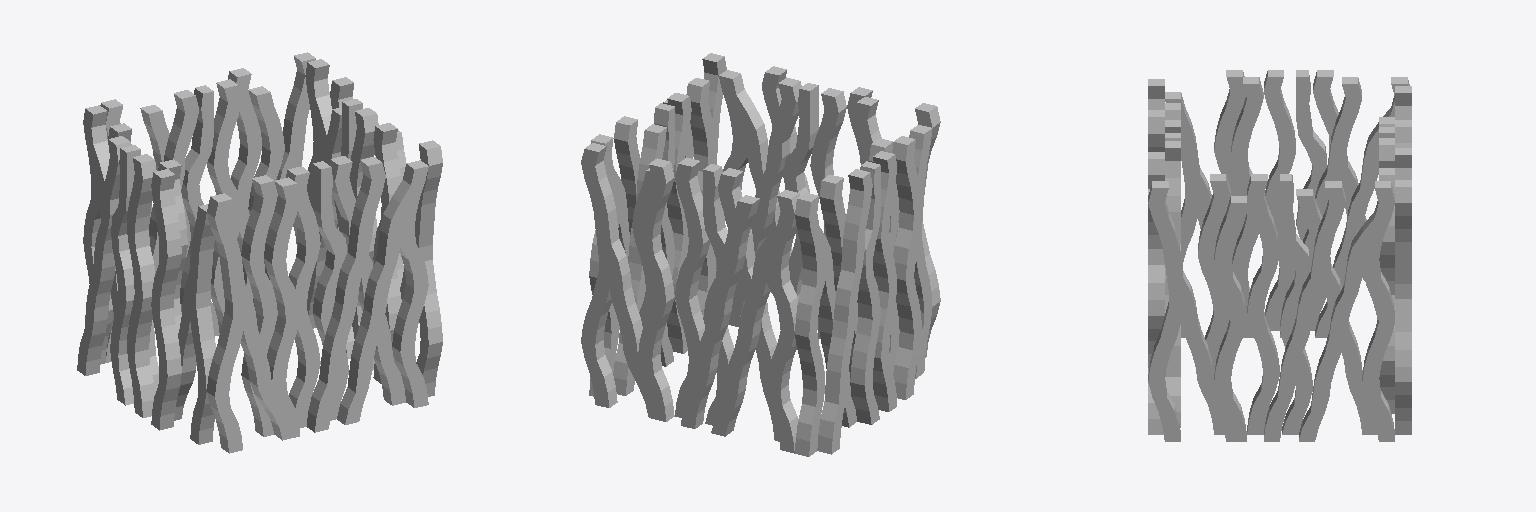
The model's file is tris.obj.
3 views of the same model, side by side, from view 1: azimuth 30°, elevation 25°; view 2: azimuth 150°, elevation 25°; view 3: azimuth 270°, elevation 25° (orthographic).
Visible parts, largest first — view 1: slot32; view 2: slot32; view 3: slot32.
Boxes of the visible parts, x1,y1,x2,y2 form: slot32: [77, 52, 442, 453]; slot32: [581, 53, 940, 456]; slot32: [1148, 70, 1411, 441].
Bounding box in the file's own units: 34 × 34 × 32.